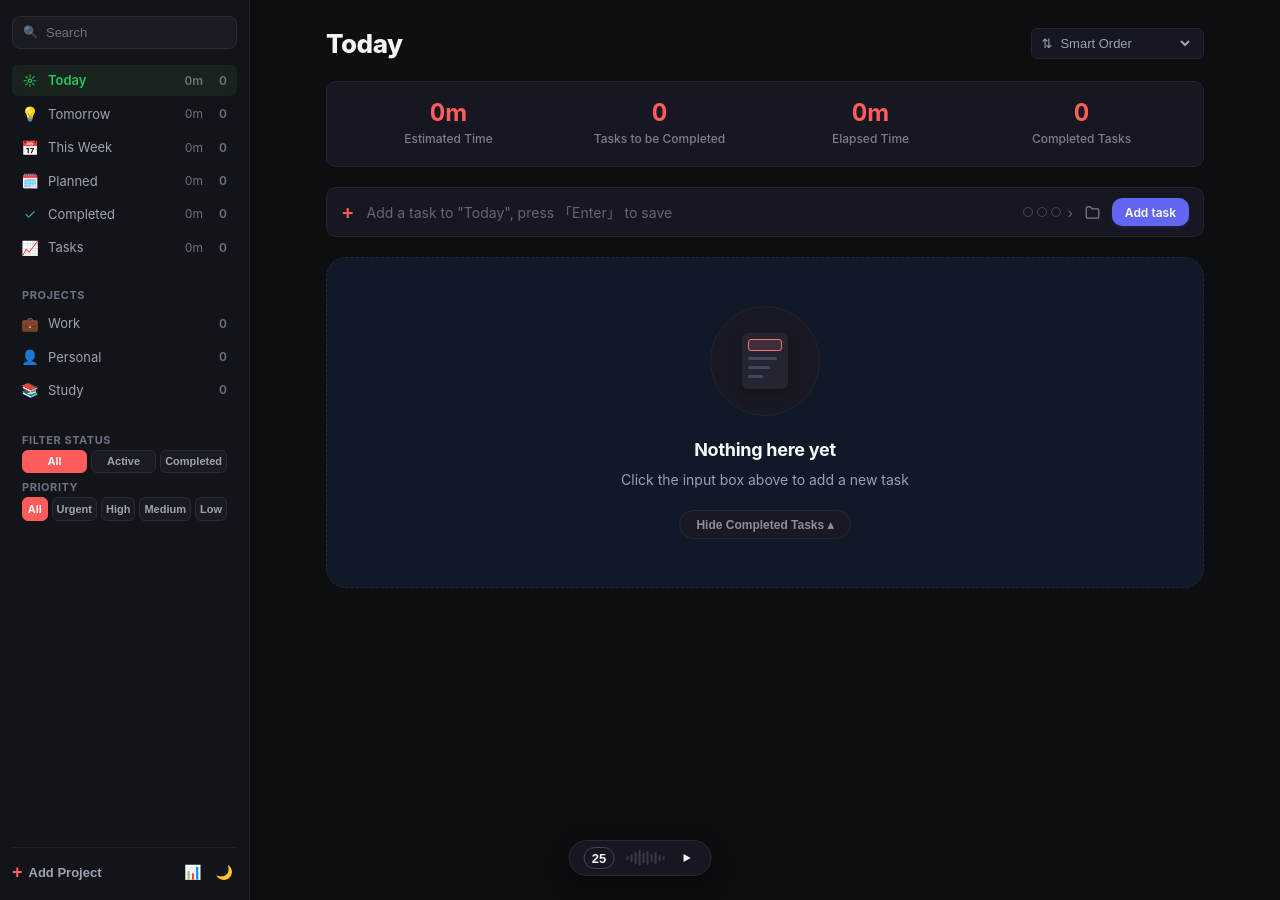
Scenario: App component integration › deletes a task when delete button is clicked
In the field named "title": (689, 212) x1=366 y1=204 x2=1012 y2=221, type "Delete me"
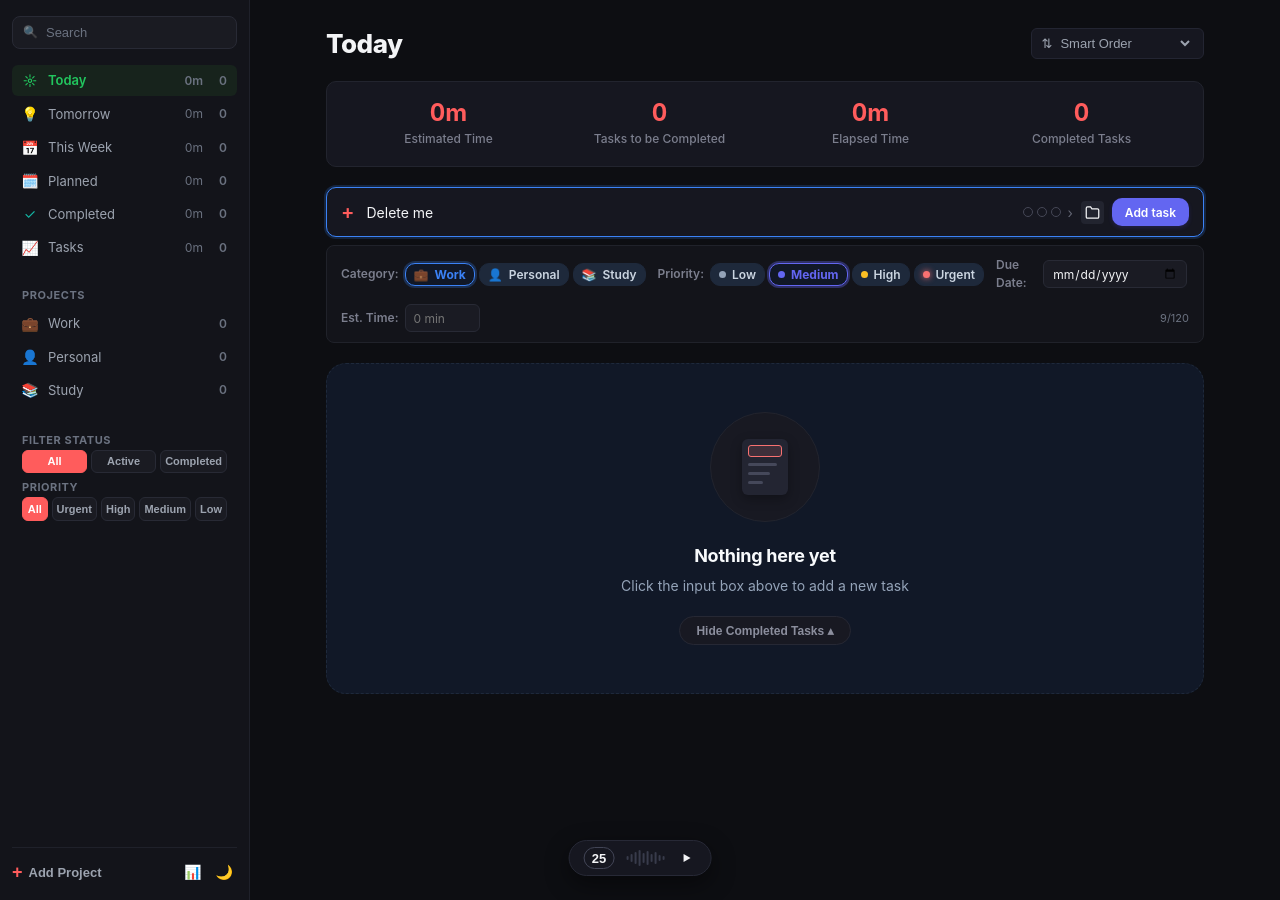
Click the button "Add task": (1150, 212) x1=1112 y1=198 x2=1189 y2=226
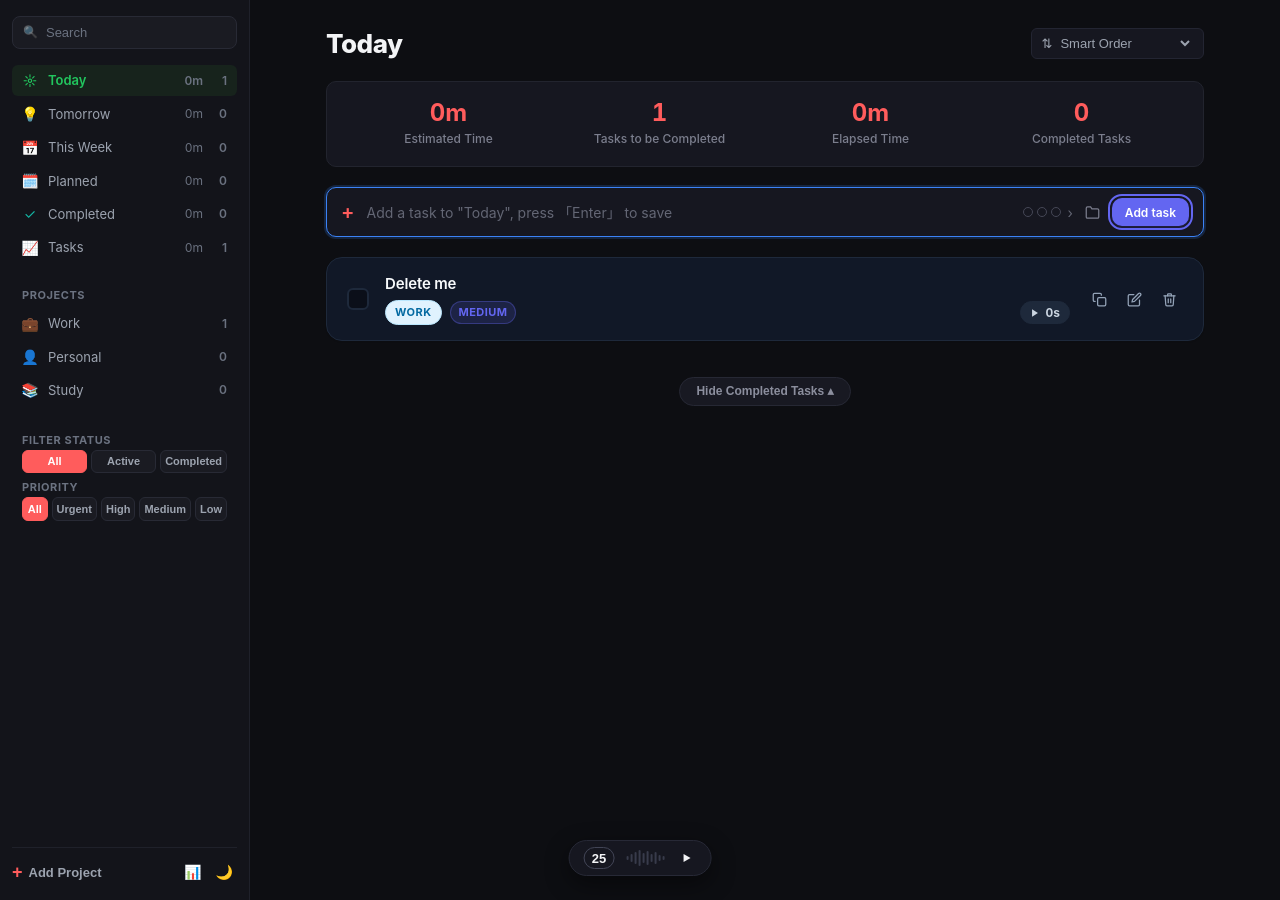
Expected: the text "Delete me" is shown, x1=385 y1=274 x2=456 y2=293
Click the button named "delete task: delete me": (1170, 299) x1=1154 y1=284 x2=1185 y2=315
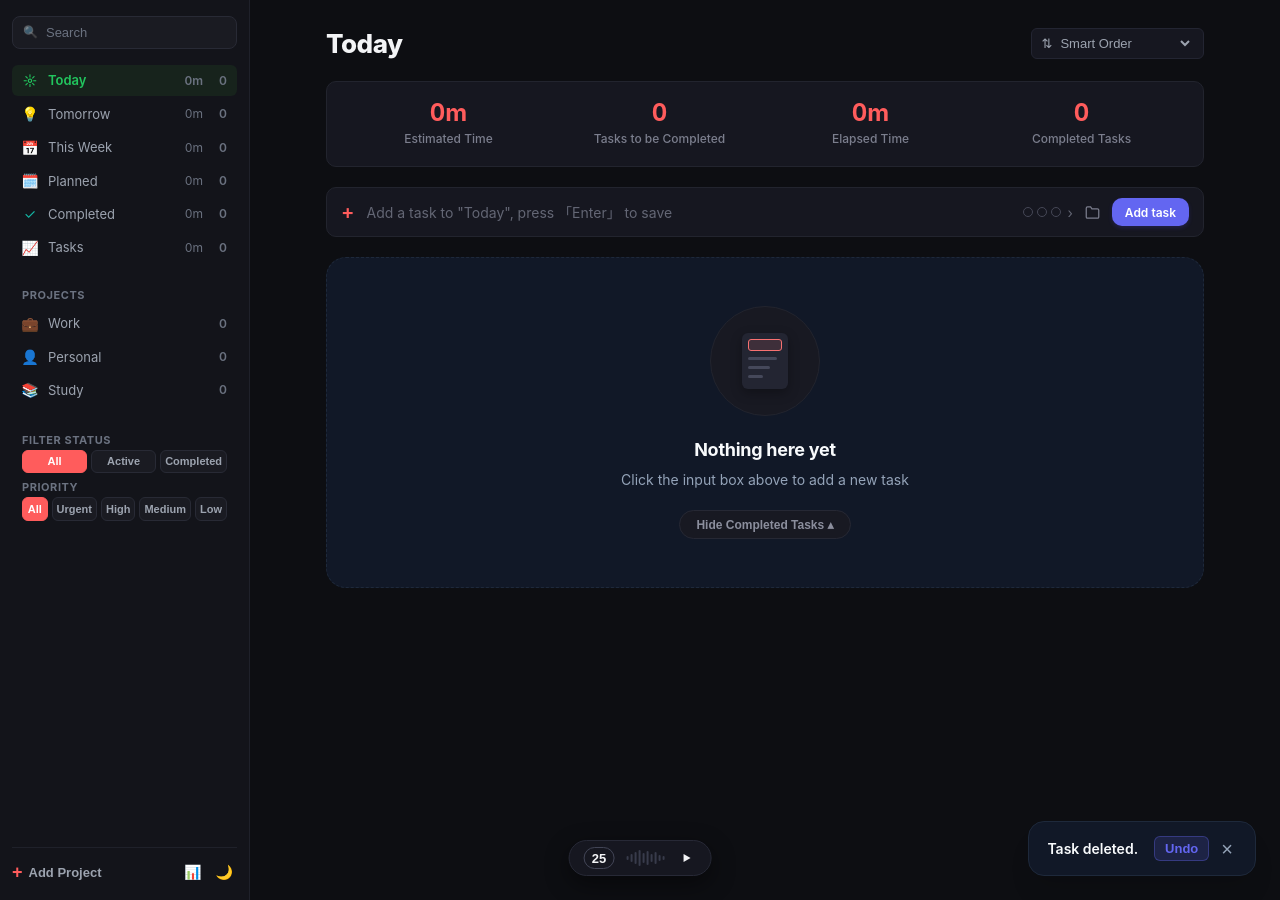
Expected: the text "Delete me" is gone
